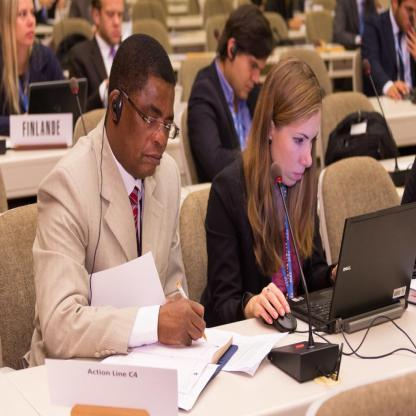board: (286, 200, 416, 334), (27, 77, 88, 136)
